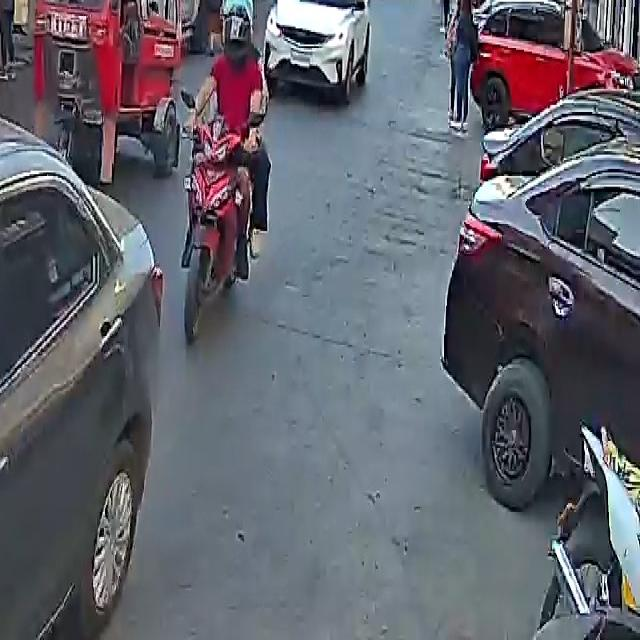car: (0, 78, 178, 640), (443, 84, 640, 528), (472, 0, 638, 130), (265, 0, 373, 101)
